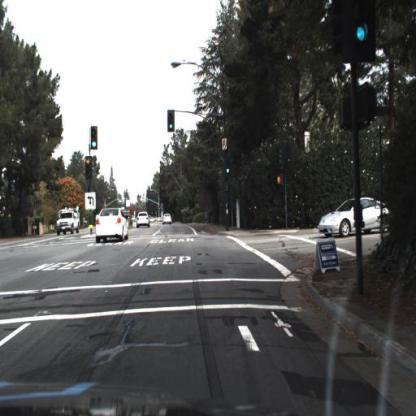car: (315, 193, 396, 245), (93, 205, 130, 245), (54, 202, 83, 238), (134, 210, 152, 231), (160, 208, 175, 229)
trafficLight-Green: (90, 126, 100, 153), (167, 110, 177, 137), (167, 118, 176, 138), (226, 160, 234, 178), (91, 137, 99, 153), (226, 161, 231, 179)
trafficLight-Red: (276, 173, 287, 189)
trafficLight-RedLeft: (83, 154, 93, 175), (85, 155, 93, 180)
